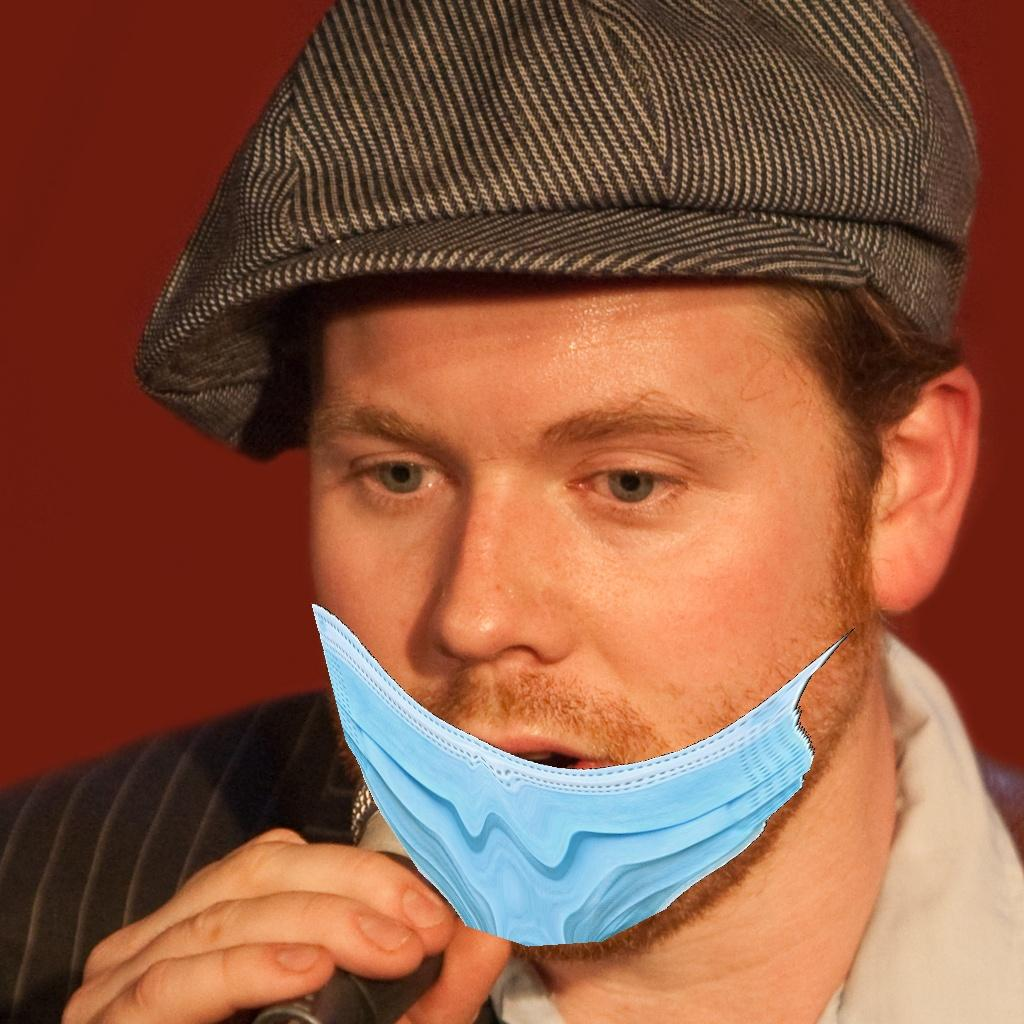Máscara Incorreta: (293, 268, 879, 947)
